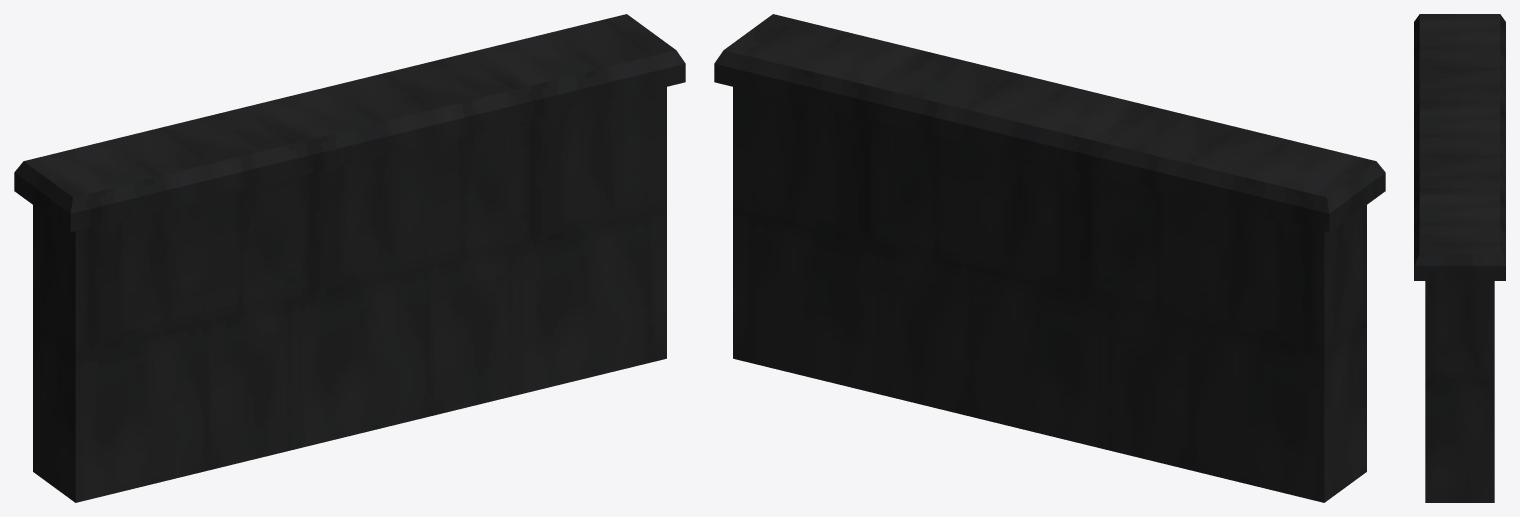
Rendered from marble_ashlar_wall.glb.
The picture shows the model from 3 angles, left to right: view 1: azimuth 30°, elevation 25°; view 2: azimuth 150°, elevation 25°; view 3: azimuth 270°, elevation 25°; orthographic projection. The views are drawn at different scales.
Parts seen in each view (by area): view 1: MarbleAshlarWall; view 2: MarbleAshlarWall; view 3: MarbleAshlarWall.
Part boxes in pixels (x1,y1,x2,y2): MarbleAshlarWall: [14, 14, 685, 502]; MarbleAshlarWall: [714, 14, 1385, 502]; MarbleAshlarWall: [1414, 14, 1505, 502].
Bounding box in the file's own units: 4.16 × 2 × 0.66.
3 materials, 3 textured.
